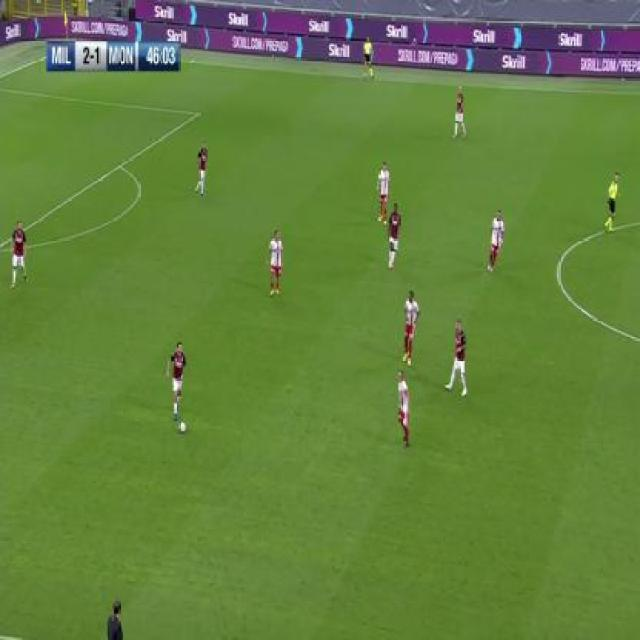ball: (179, 418, 187, 434)
player: (445, 315, 470, 397), (166, 336, 188, 421), (9, 217, 29, 291), (401, 288, 420, 364), (396, 368, 412, 450), (486, 209, 506, 274), (267, 228, 284, 299), (386, 202, 402, 271), (375, 160, 391, 226), (603, 171, 620, 233), (193, 138, 209, 197), (451, 85, 467, 141), (362, 34, 376, 80)
